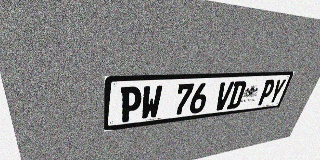6: (188, 83, 210, 114)
7: (172, 83, 194, 116)
D: (226, 81, 247, 109)
P: (119, 86, 142, 123), (256, 79, 277, 105)
V: (213, 81, 234, 111)
W: (140, 85, 163, 120)
Y: (267, 79, 287, 104)
